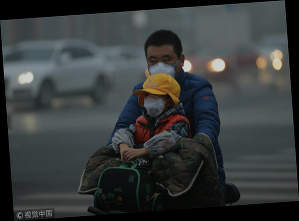with_mask: (147, 52, 180, 83), (141, 91, 167, 117)
